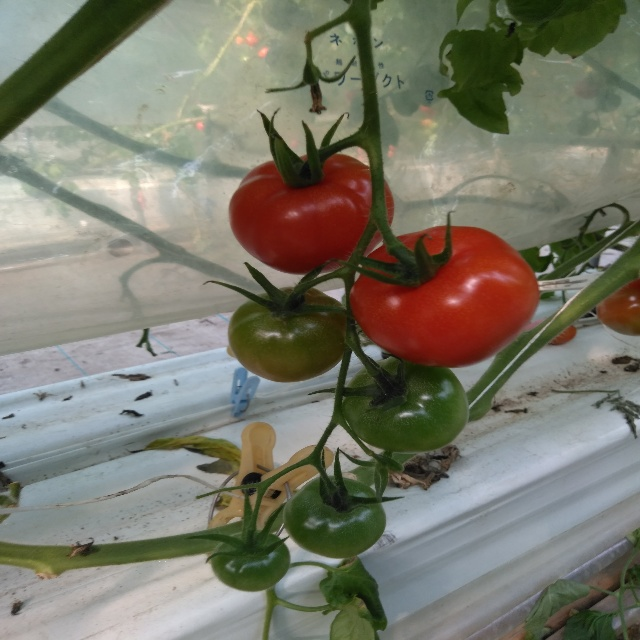l_fully_ripened: (349, 226, 540, 368), (227, 153, 395, 276)
l_green: (341, 355, 470, 454), (228, 287, 354, 383), (282, 476, 387, 559), (209, 529, 290, 591)
l_half_ripened: (596, 278, 640, 337)
